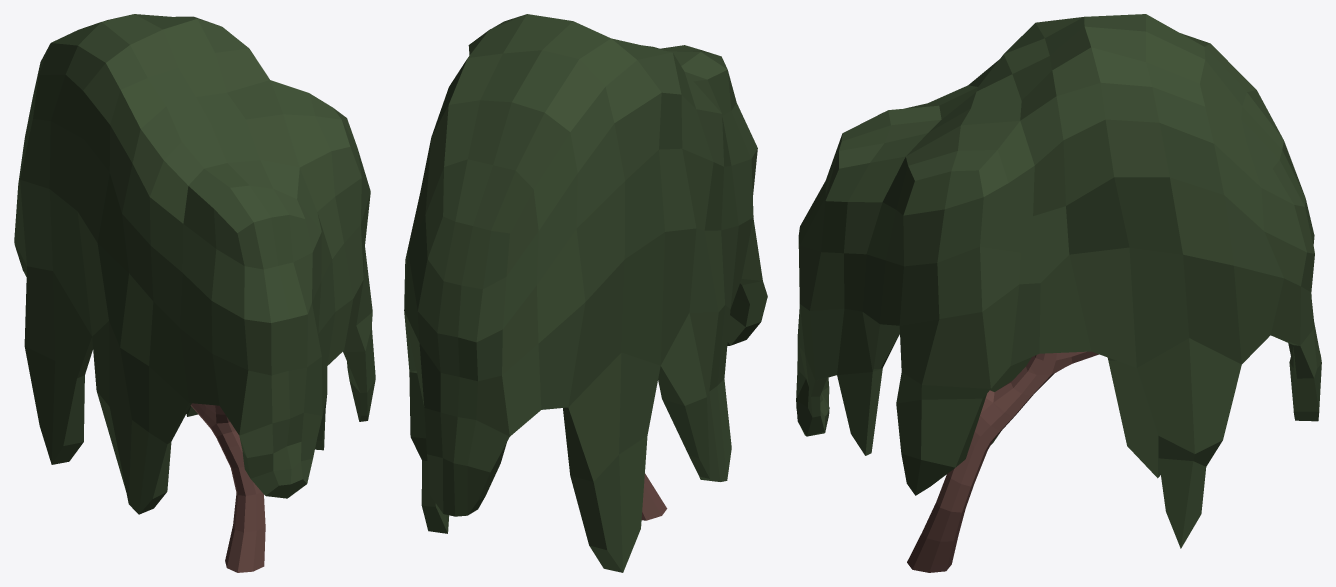
File: Willow_1.glb
3 views of the same model, side by side, from view 1: azimuth 30°, elevation 25°; view 2: azimuth 150°, elevation 25°; view 3: azimuth 270°, elevation 25° (orthographic). The views are drawn at different scales.
Parts seen in each view (by area): view 1: Willow_1_Cube.010; view 2: Willow_1_Cube.010; view 3: Willow_1_Cube.010.
Boxes of the visible parts, x1,y1,x2,y2 form: Willow_1_Cube.010: (14,14,375,572); Willow_1_Cube.010: (404,14,767,572); Willow_1_Cube.010: (796,14,1321,572).
Size of the model in its own units: 1.45 by 2.85 by 2.55.
